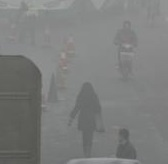person: (67, 80, 106, 158), (114, 20, 139, 80), (115, 126, 138, 160)
